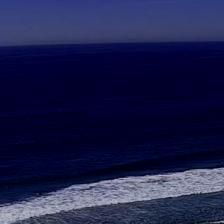surfer: (36, 191, 42, 195), (218, 161, 224, 163), (18, 180, 21, 183), (7, 186, 10, 188)
